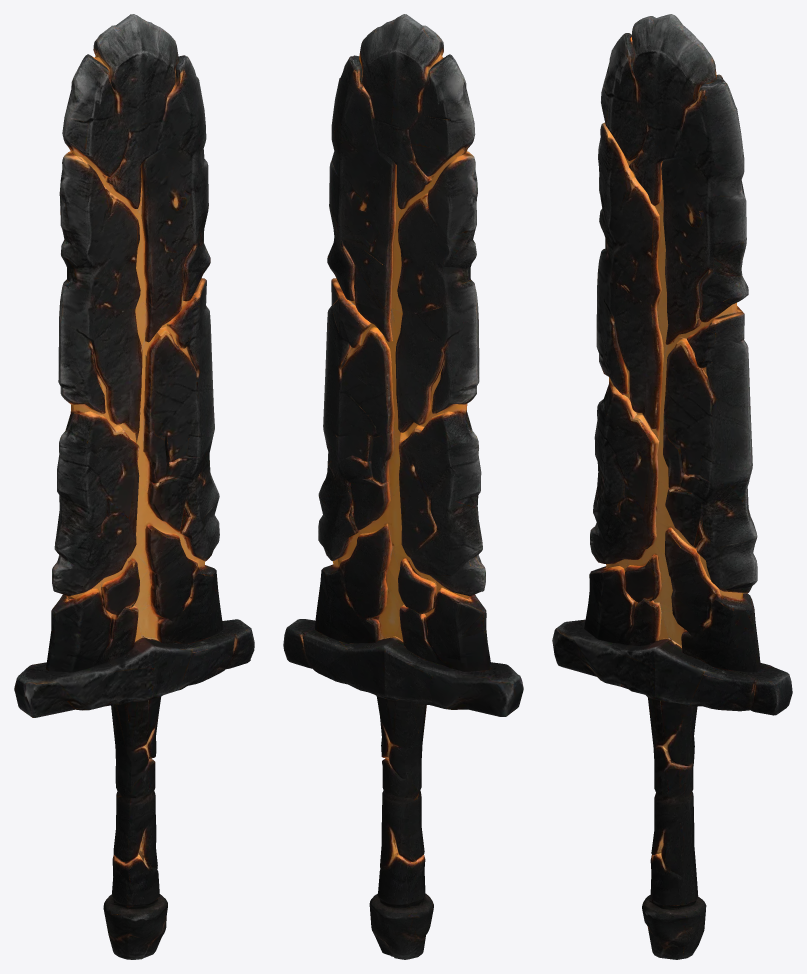
The model's file is weapon.glb.
3 renders of one model, left to right at view 1: azimuth 30°, elevation 25°; view 2: azimuth 150°, elevation 25°; view 3: azimuth 330°, elevation 25°, orthographic.
Parts seen in each view (by area): view 1: mesh_node; view 2: mesh_node; view 3: mesh_node.
Boxes of the visible parts, x1=… form: mesh_node: x1=14, y1=14, x2=254, y2=959; mesh_node: x1=283, y1=14, x2=523, y2=959; mesh_node: x1=552, y1=14, x2=792, y2=959.
Bounding box in the file's own units: 0.4887 × 1.9 × 0.1398.
Materials: 1 (1 with a texture image).
